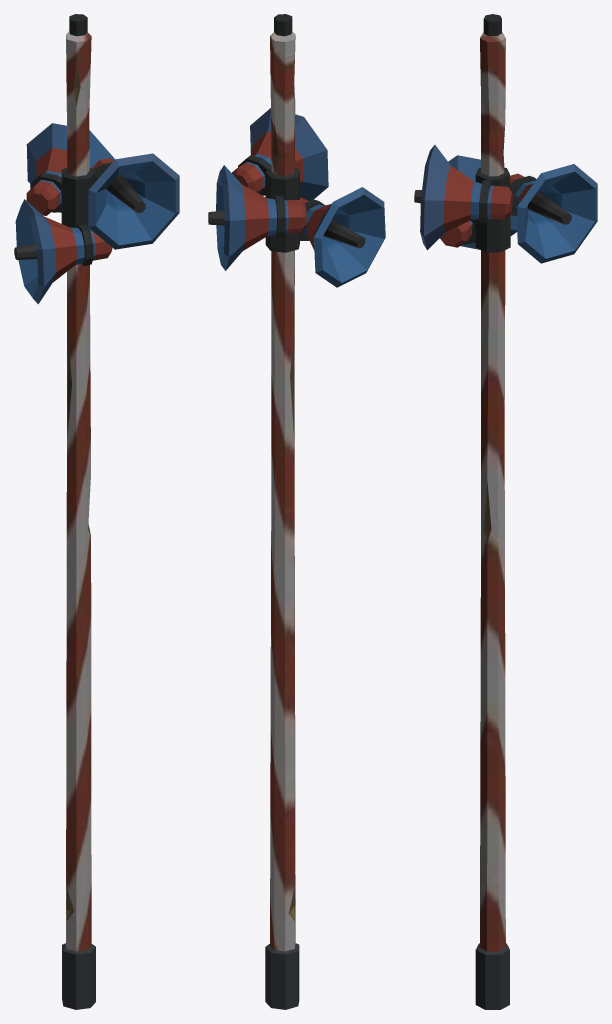
Rendered from SM_Prop_Loud_Speaker_01.glb.
The picture shows the model from 3 angles, left to right: view 1: azimuth 30°, elevation 25°; view 2: azimuth 150°, elevation 25°; view 3: azimuth 270°, elevation 25°; orthographic projection.
Parts seen in each view (by area): view 1: SM_Prop_Loud_Speaker_01; view 2: SM_Prop_Loud_Speaker_01; view 3: SM_Prop_Loud_Speaker_01.
Boxes of the visible parts, left/top/right/bottom form: SM_Prop_Loud_Speaker_01: left=14, top=14, right=179, bottom=1009; SM_Prop_Loud_Speaker_01: left=208, top=14, right=385, bottom=1009; SM_Prop_Loud_Speaker_01: left=414, top=14, right=597, bottom=1009.
Size of the model in its own units: 122 by 827 by 140.
Materials: 1 (1 with a texture image).
